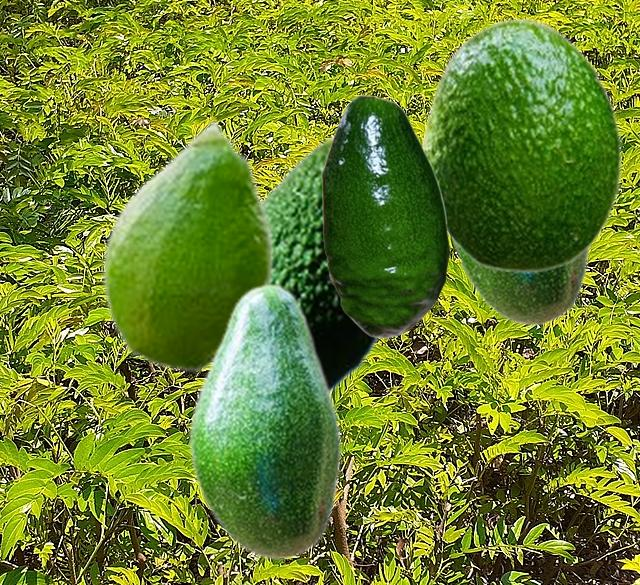avocado: (421, 17, 622, 272), (101, 117, 274, 372), (187, 282, 341, 560), (261, 133, 384, 394), (321, 94, 449, 337), (450, 242, 592, 326)
